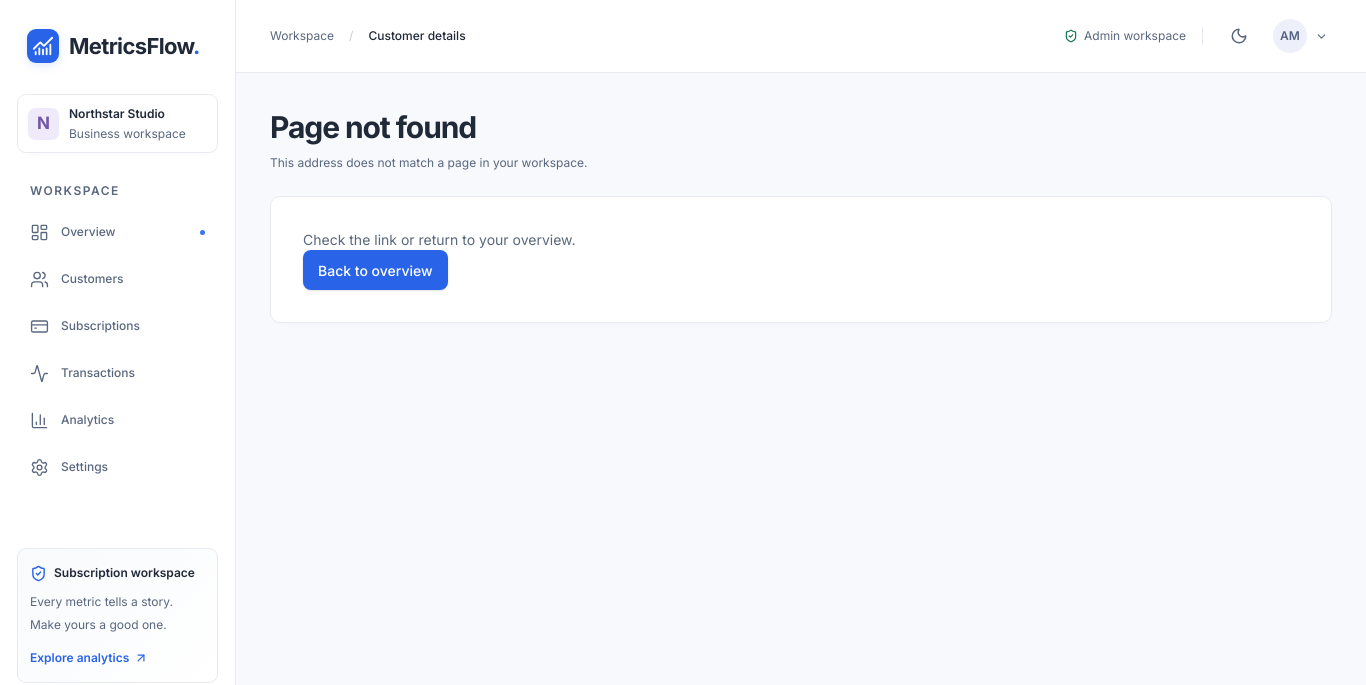
Test: route boundaries and timezone initialization › keeps unknown routes visible and navigates into the real lazy-loaded workspace
This screenshot has width=1366, height=685.
Expected: the heading "Page not found" is shown, [270,109,476,145]
Step 1. Click the link "Back to overview" → {"x": 375, "y": 270}, box [303,250,448,290]
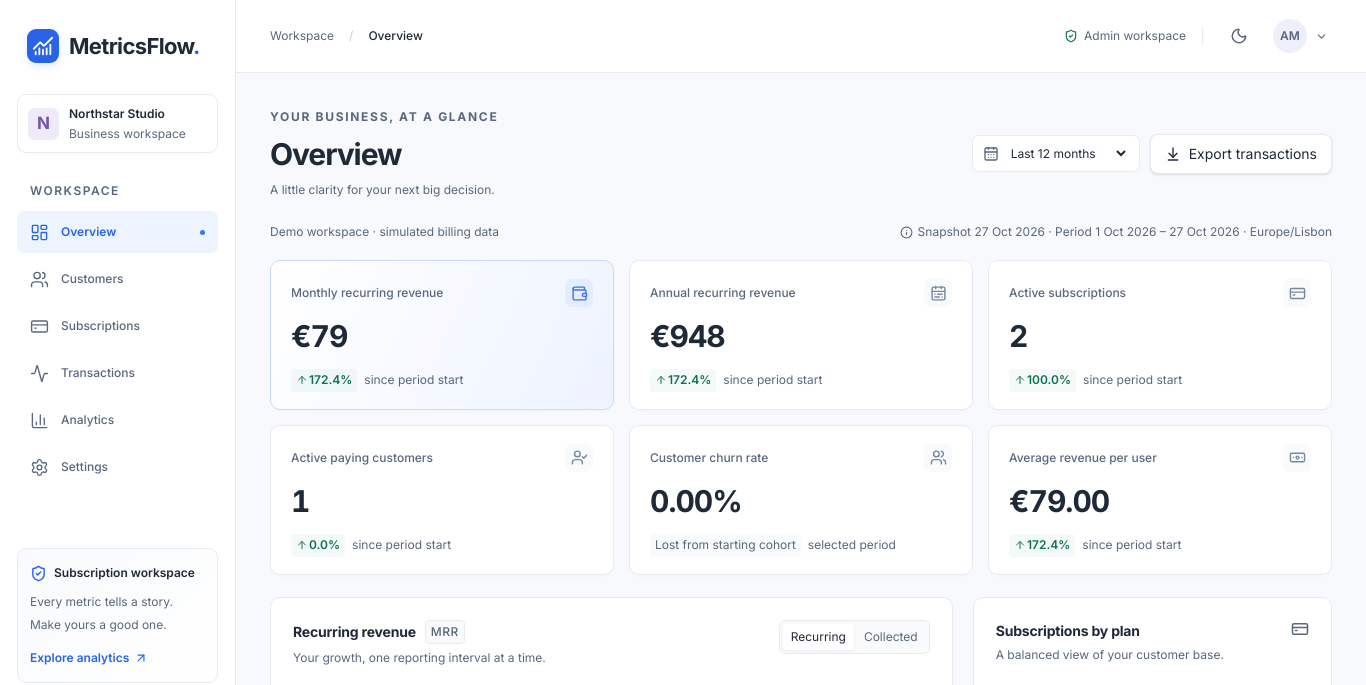
Expected: the text "€79" is shown, [291,318,347,354]
